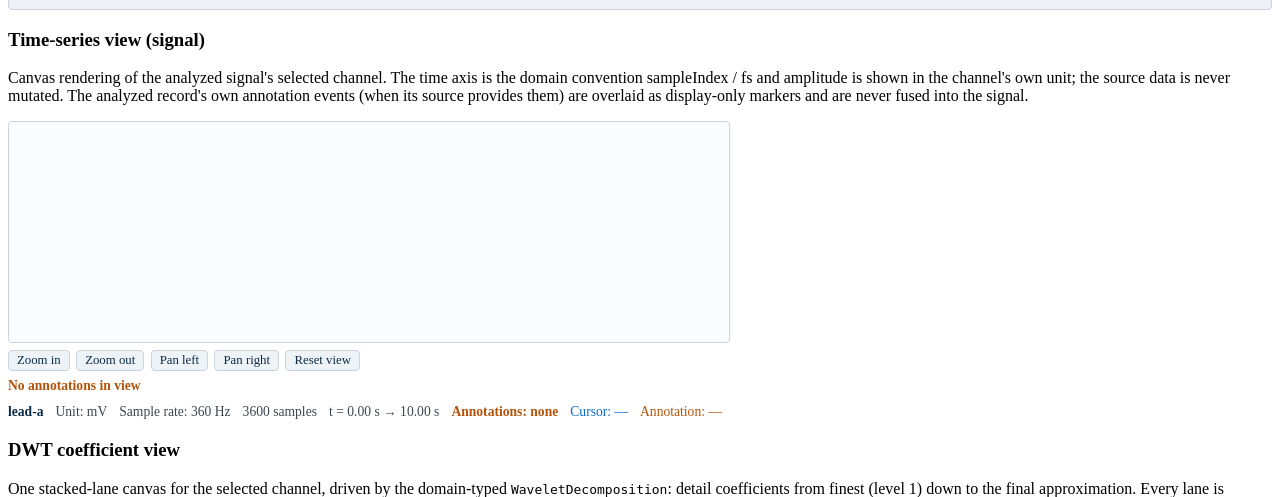
Test: App root bootstrap + interaction controls (jsdom slice) › display navigation (Phase 13 item 4) › returns the select to Full record and restores the window on Reset view
(page scrolled)
Click the button "Zoom in": x=39, y=361 [8, 350, 70, 372]
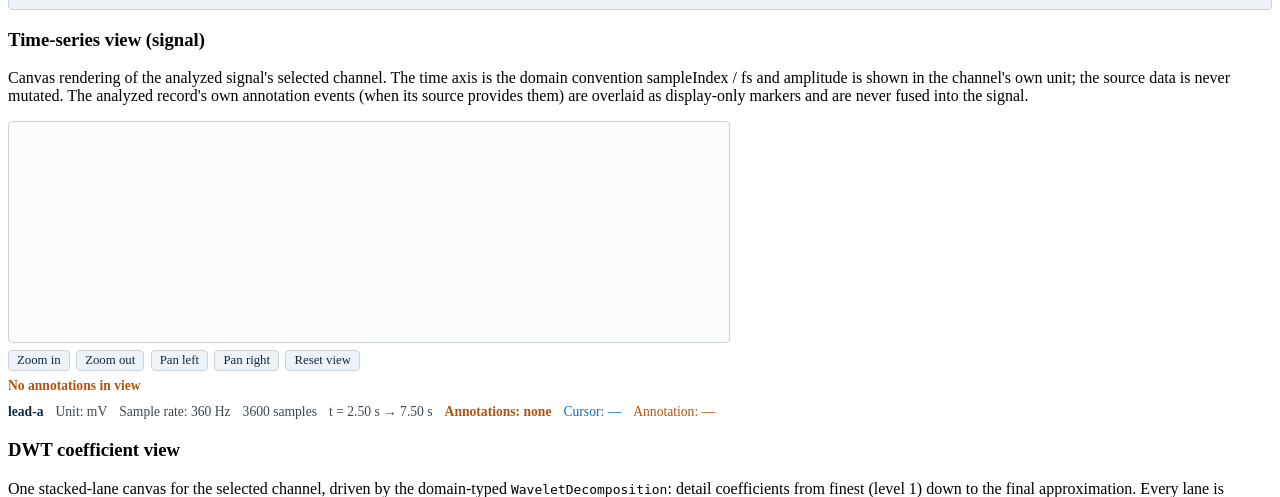
Click the button "Reset view": x=323, y=361 [286, 350, 360, 372]
(page scrolled)
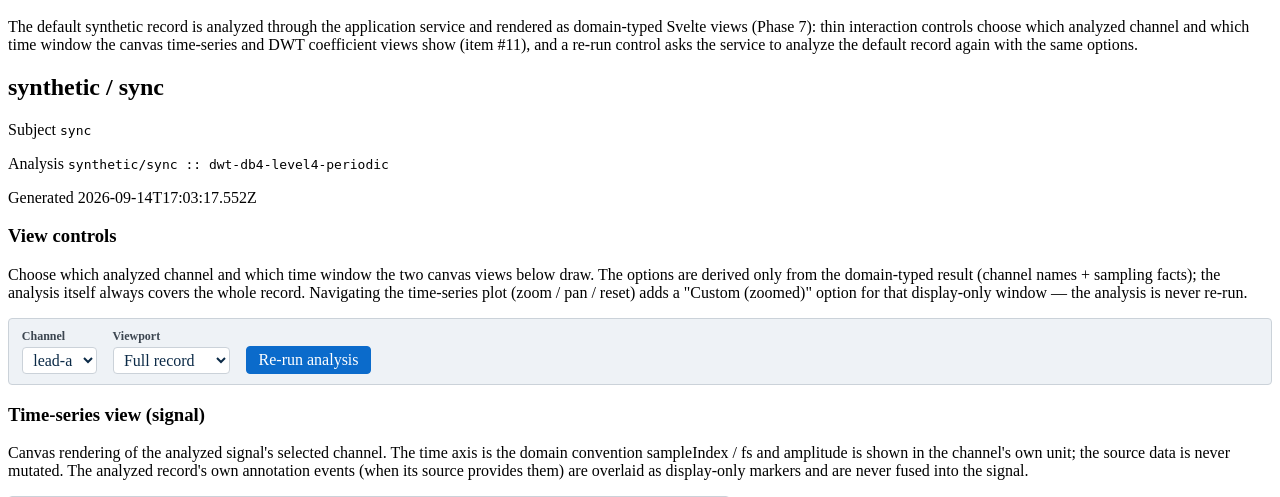
expect the dropdown named "Viewport" shows "Full record": met, box [113, 347, 230, 374]
